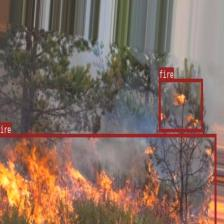fire: (0, 133, 216, 224), (159, 78, 203, 132)
